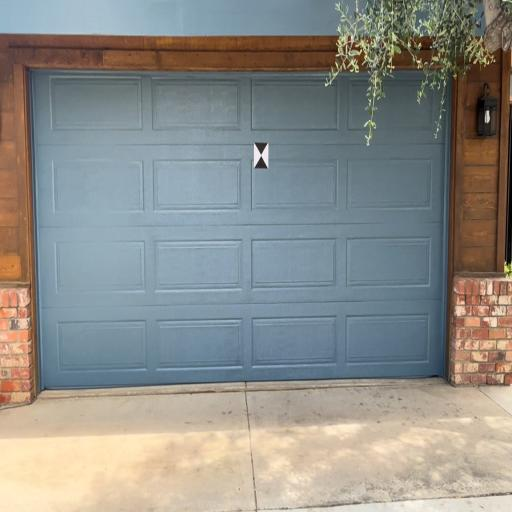target: (254, 143, 269, 169)
